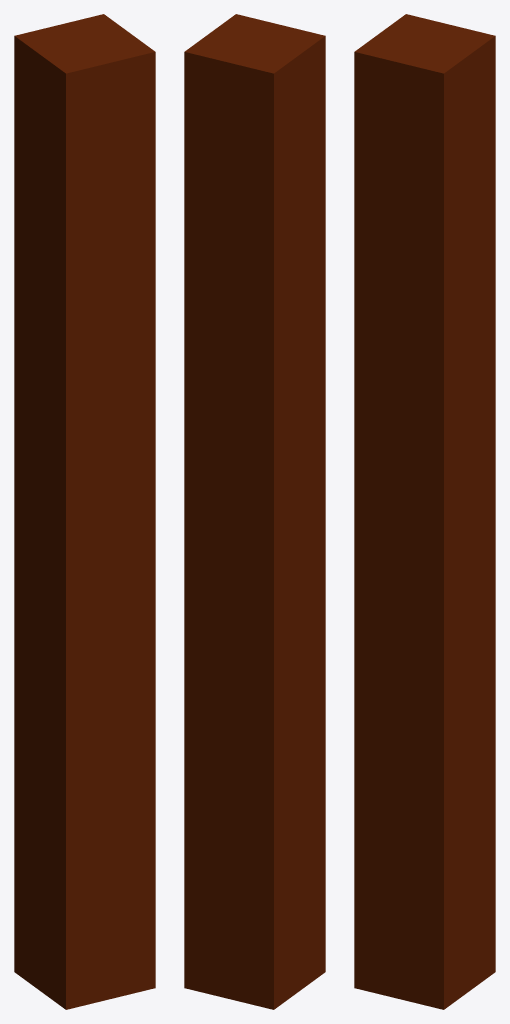
Rendered from elkleg.obj.
The picture shows the model from 3 angles, left to right: view 1: azimuth 30°, elevation 25°; view 2: azimuth 150°, elevation 25°; view 3: azimuth 330°, elevation 25°; orthographic projection.
Size of the model in its own units: 1 by 10 by 1.
1 material, 1 textured.
